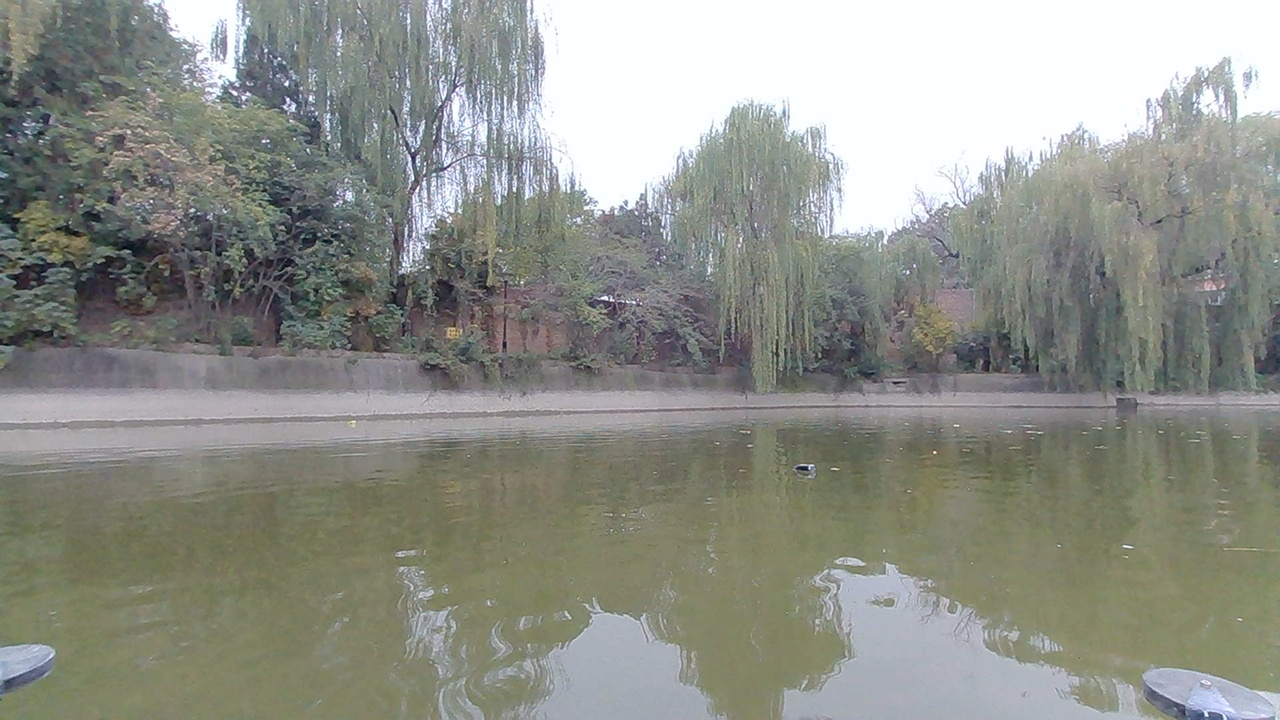bottle: (792, 457, 820, 483)
